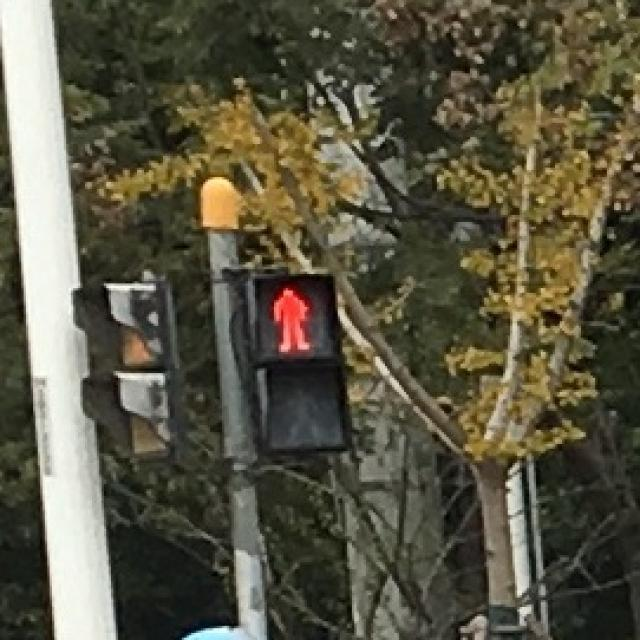red-crossing: (255, 278, 328, 359)
